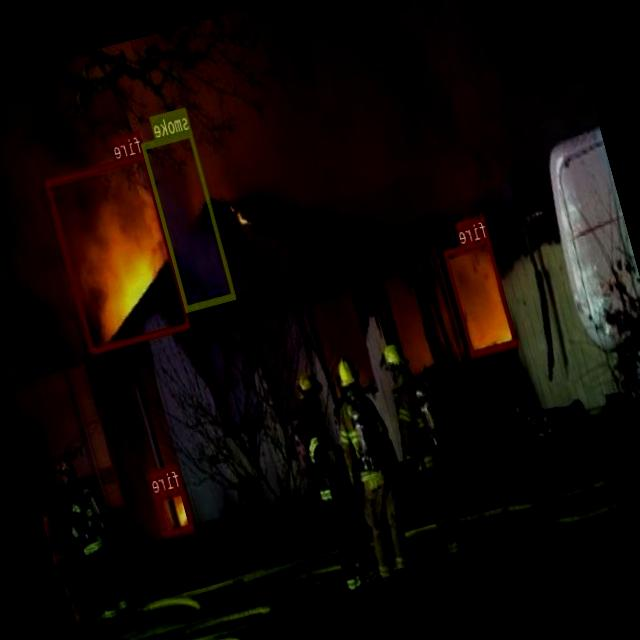fire: (45, 152, 192, 352), (443, 236, 518, 357), (155, 486, 194, 536)
smoke: (142, 129, 236, 310)
